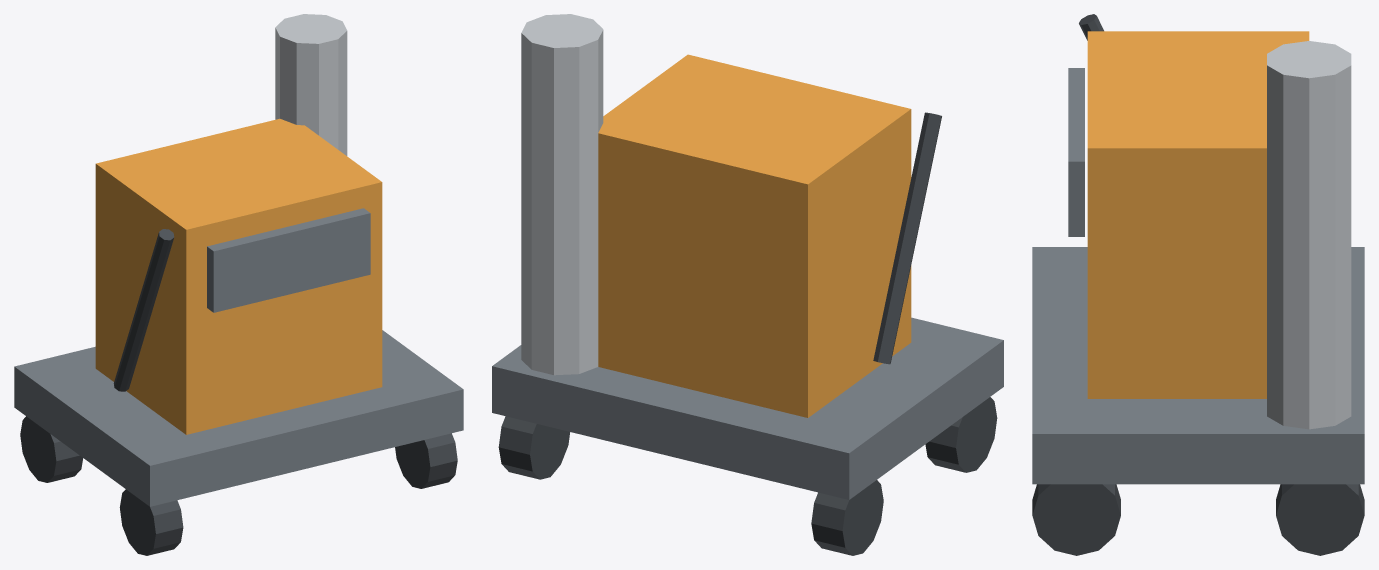
Rendered from mech-hangar-and-battle-frames-welding-cart-419e80f7__26965.glb.
The picture shows the model from 3 angles, left to right: view 1: azimuth 30°, elevation 25°; view 2: azimuth 150°, elevation 25°; view 3: azimuth 270°, elevation 25°; orthographic projection. The views are drawn at different scales.
Parts seen in each view (by area): view 1: welding-cart; view 2: welding-cart; view 3: welding-cart.
Boxes of the visible parts, x1,y1,x2,y2 form: welding-cart: (14,14,463,555); welding-cart: (492,14,1003,555); welding-cart: (1032,14,1364,555).
Size of the model in its own units: 0.8 by 0.95 by 0.6001.
